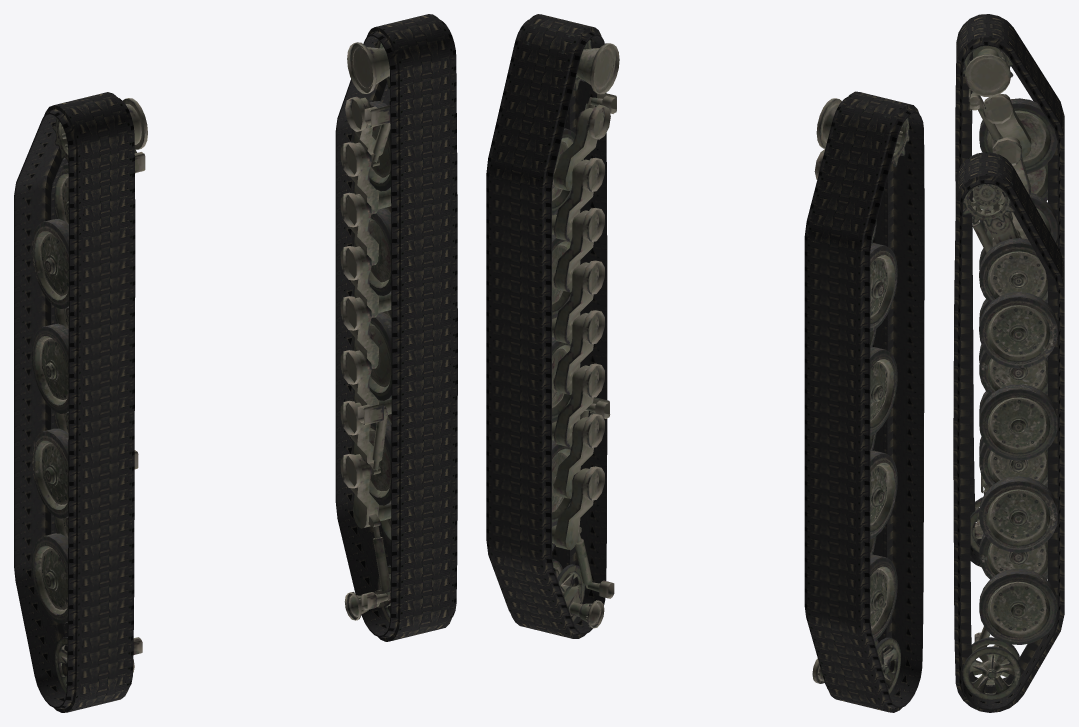
File: Chassis.glb
The picture shows the model from 3 angles, left to right: view 1: azimuth 30°, elevation 25°; view 2: azimuth 150°, elevation 25°; view 3: azimuth 270°, elevation 25°; orthographic projection. The views are drawn at different scales.
Visible parts, largest first — view 1: set_2_group_0, set_3_group_0, set_1_group_0, set_4_group_0, set_5_group_0, set_0_group_0; view 2: set_2_group_0, set_3_group_0, set_1_group_0, set_4_group_0, set_5_group_0, set_0_group_0; view 3: set_5_group_0, set_3_group_0, set_2_group_0, set_0_group_0, set_4_group_0, set_1_group_0.
Part boxes in pixels (bbox=[...]): set_2_group_0: bbox=[14, 92, 135, 712]; set_3_group_0: bbox=[335, 14, 457, 641]; set_1_group_0: bbox=[340, 42, 391, 620]; set_4_group_0: bbox=[31, 118, 120, 693]; set_5_group_0: bbox=[352, 16, 418, 623]; set_0_group_0: bbox=[123, 98, 147, 672]; set_2_group_0: bbox=[804, 91, 924, 712]; set_3_group_0: bbox=[486, 14, 607, 638]; set_1_group_0: bbox=[552, 43, 619, 628]; set_4_group_0: bbox=[850, 107, 909, 694]; set_5_group_0: bbox=[526, 27, 591, 621]; set_0_group_0: bbox=[812, 98, 841, 683]; set_5_group_0: bbox=[962, 158, 1057, 700]; set_3_group_0: bbox=[953, 152, 1064, 712]; set_2_group_0: bbox=[955, 14, 1064, 566]; set_0_group_0: bbox=[965, 48, 1031, 538]; set_4_group_0: bbox=[961, 22, 1057, 552]; set_1_group_0: bbox=[972, 210, 1018, 663].
Bounding box in the file's own units: 3.26 × 4.92 × 0.9213.
Materials: 6 (6 with a texture image).
